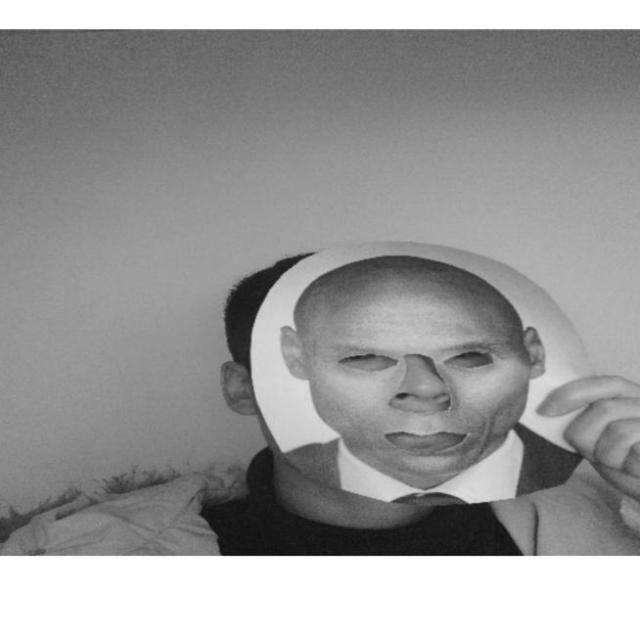fake: (249, 240, 603, 508)
